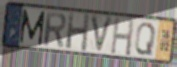H: (65, 12, 91, 54), (109, 16, 135, 58)
M: (19, 8, 46, 47)
Q: (133, 22, 157, 57)
R: (43, 10, 67, 49)
V: (89, 13, 115, 56)
